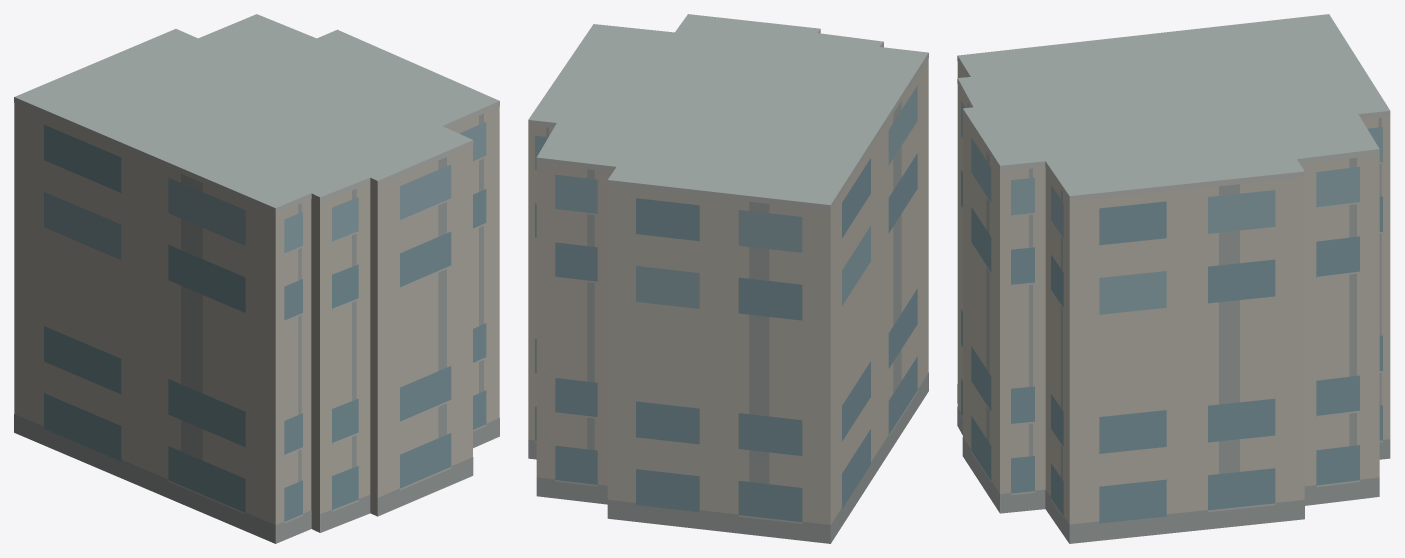
Rendered from survey-upis-32641137.glb.
3 renders of one model, left to right at view 1: azimuth 30°, elevation 25°; view 2: azimuth 150°, elevation 25°; view 3: azimuth 270°, elevation 25°, orthographic. The views are drawn at different scales.
Visible parts, largest first — view 1: survey-upis-32641137.tmp; view 2: survey-upis-32641137.tmp; view 3: survey-upis-32641137.tmp.
Boxes of the visible parts, <box> form: survey-upis-32641137.tmp: <box>14,14,499,543</box>; survey-upis-32641137.tmp: <box>528,14,928,543</box>; survey-upis-32641137.tmp: <box>957,14,1390,543</box>.
Bounding box in the file's own units: 16.18 × 14.4 × 16.26.
